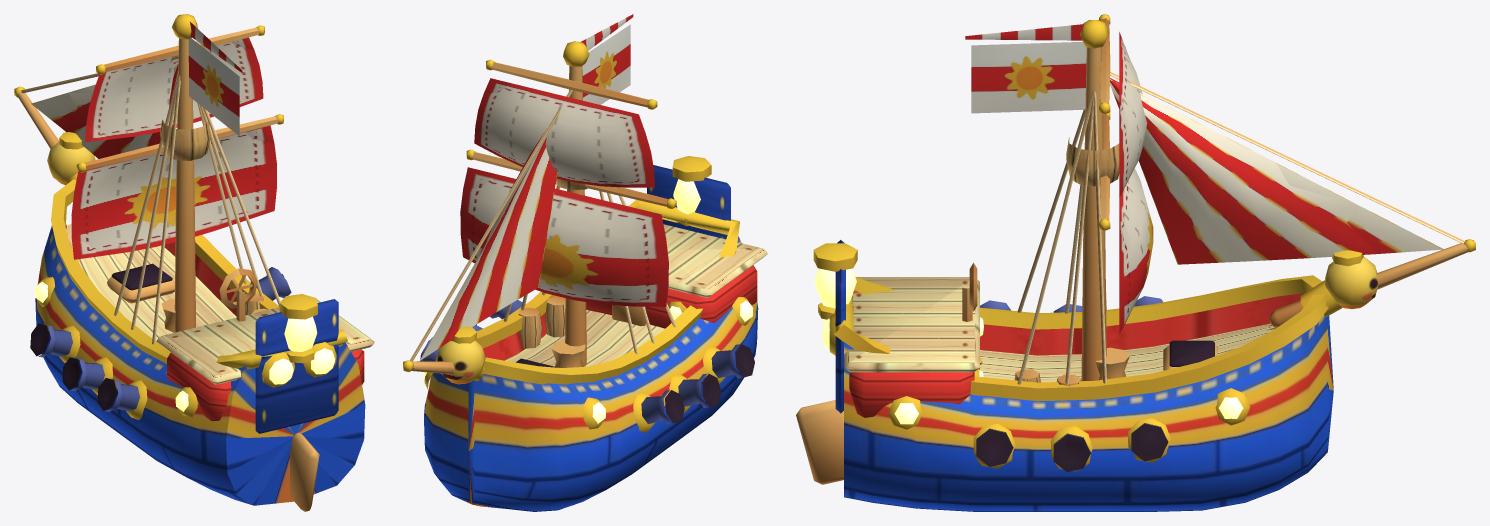
Rendered from navy_sloop.glb.
The picture shows the model from 3 angles, left to right: view 1: azimuth 30°, elevation 25°; view 2: azimuth 150°, elevation 25°; view 3: azimuth 270°, elevation 25°; orthographic projection. The views are drawn at different scales.
Parts seen in each view (by area): view 1: Hull, Sail0_0, Rigging, Sail0_1, Guns0, Flag, Jib; view 2: Hull, Sail0_0, Sail0_1, Jib, Rigging, Guns0, Flag; view 3: Hull, Jib, Rigging, Flag, Guns0, Sail0_0, Sail0_1.
Boxes of the visible parts, <box> form: Hull: <box>35,132,374,511</box>; Sail0_0: <box>71,125,276,259</box>; Rigging: <box>14,14,283,344</box>; Sail0_1: <box>85,37,263,141</box>; Guns0: <box>30,267,291,411</box>; Flag: <box>188,22,242,135</box>; Jib: <box>31,60,178,158</box>; Hull: <box>423,156,767,511</box>; Sail0_0: <box>460,167,668,306</box>; Sail0_1: <box>474,78,654,187</box>; Jib: <box>420,97,569,360</box>; Rigging: <box>403,41,676,374</box>; Guns0: <box>420,300,754,424</box>; Flag: <box>581,14,633,104</box>; Hull: <box>796,240,1378,511</box>; Jib: <box>1110,77,1444,264</box>; Rigging: <box>1017,14,1475,385</box>; Flag: <box>965,24,1086,113</box>; Guns0: <box>976,296,1168,471</box>; Sail0_0: <box>1119,168,1153,334</box>; Sail0_1: <box>1119,32,1147,197</box>.
Size of the model in its own units: 1.61 by 2.47 by 3.26.
8 materials, 8 textured.
